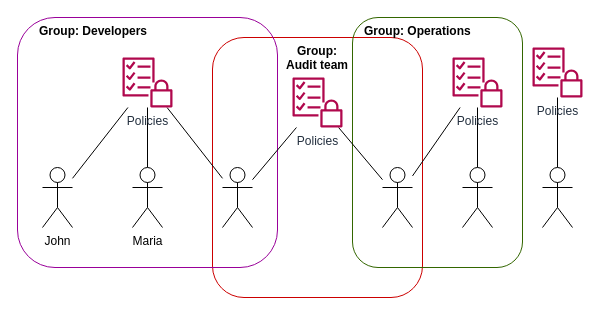
The diagram is 600 pixels wide and 315 high, and some of its shapes have lost their labels. The shapes that lost their labels are listed below. From the top down, each one's centre as x and y in pixels, then its label:
pixel 237 197: Robert
pixel 397 197: Lebron
pixel 477 197: Stephen
pixel 557 197: Kevin
